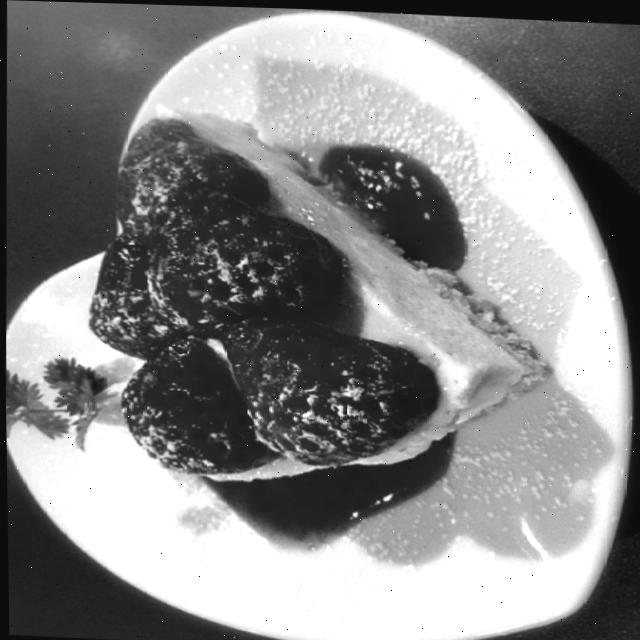蛋糕甜品: (55, 93, 565, 532)
